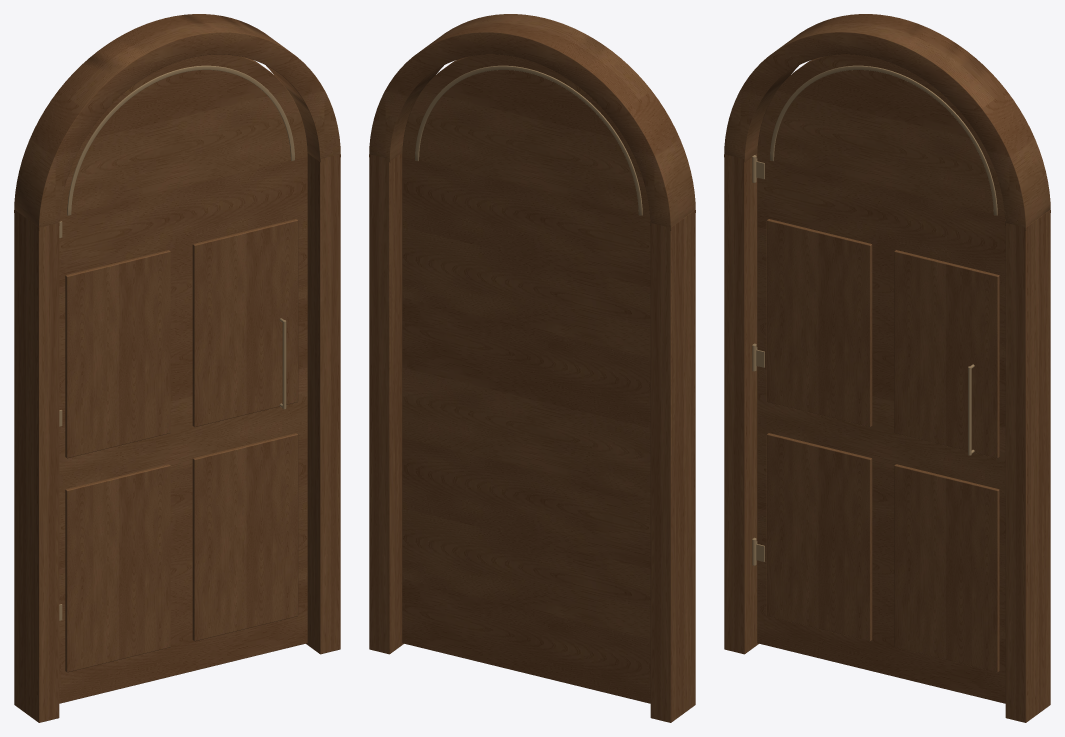
The model's file is arch-arched-entry-door.glb.
3 views of the same model, side by side, from view 1: azimuth 30°, elevation 25°; view 2: azimuth 150°, elevation 25°; view 3: azimuth 330°, elevation 25° (orthographic).
Visible parts, largest first — view 1: Arch | shaped door slab, Arch frame | jamb, Arch | raised panel.002, Arch frame | curved header, Arch | raised panel, Arch | raised panel.001, Arch | raised panel.003, Arch frame | jamb.001, Door | raised curved bead; view 2: Arch | shaped door slab, Arch frame | jamb, Arch frame | curved header, Arch frame | jamb.001, Door | raised curved bead; view 3: Arch | shaped door slab, Arch frame | jamb.001, Arch | raised panel.001, Arch | raised panel, Arch frame | curved header, Arch | raised panel.002, Arch | raised panel.003, Arch frame | jamb, Door | raised curved bead.
Part boxes in pixels (x1,y1,x2,y2): Arch | shaped door slab: (59, 54, 307, 703); Arch frame | jamb: (14, 210, 59, 722); Arch | raised panel.002: (192, 433, 298, 641); Arch frame | curved header: (14, 14, 340, 230); Arch | raised panel: (65, 464, 170, 672); Arch | raised panel.001: (65, 250, 170, 458); Arch | raised panel.003: (192, 219, 298, 427); Arch frame | jamb.001: (306, 153, 340, 654); Door | raised curved bead: (67, 65, 294, 215); Arch | shaped door slab: (402, 54, 650, 703); Arch frame | jamb: (650, 209, 695, 722); Arch frame | curved header: (369, 14, 695, 230); Arch frame | jamb.001: (369, 153, 403, 654); Door | raised curved bead: (415, 65, 642, 215); Arch | shaped door slab: (757, 54, 1005, 703); Arch frame | jamb.001: (1005, 209, 1050, 722); Arch | raised panel.001: (766, 219, 872, 427); Arch | raised panel: (766, 433, 872, 641); Arch frame | curved header: (724, 14, 1050, 230); Arch | raised panel.002: (894, 464, 999, 672); Arch | raised panel.003: (894, 250, 999, 458); Arch frame | jamb: (724, 153, 758, 654); Door | raised curved bead: (770, 65, 997, 215).
Size of the model in its own units: 1.12 by 2.31 by 0.1655.
Materials: 3 (3 with a texture image).
